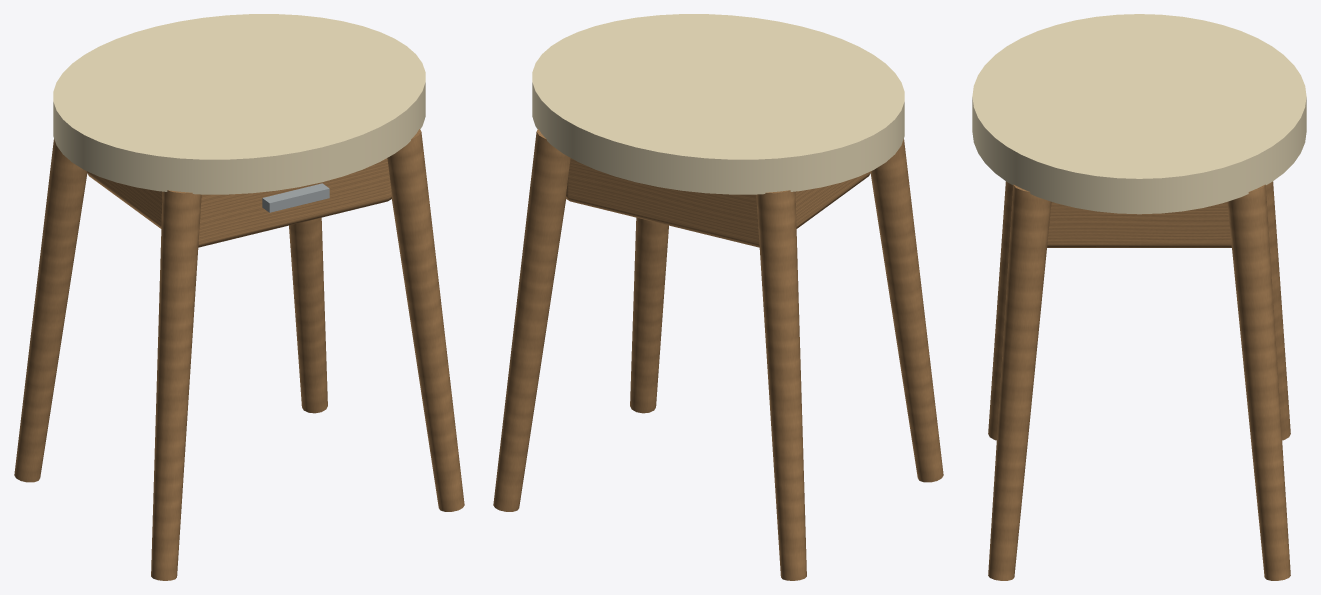
File: night_table_fjord-273028bd3e52.glb
3 renders of one model, left to right at view 1: azimuth 30°, elevation 25°; view 2: azimuth 150°, elevation 25°; view 3: azimuth 270°, elevation 25°, orthographic.
Visible parts, largest first — view 1: surface_ivory, surface_oak, surface_steel; view 2: surface_ivory, surface_oak; view 3: surface_ivory, surface_oak.
Part boxes in pixels (<box>): surface_ivory: <box>53,14,425,194</box>; surface_oak: <box>14,129,464,580</box>; surface_steel: <box>262,183,329,212</box>; surface_ivory: <box>532,14,904,194</box>; surface_oak: <box>493,129,943,580</box>; surface_ivory: <box>972,14,1306,214</box>; surface_oak: <box>988,181,1290,580</box>.
Bounding box in the file's own units: 0.4409 × 0.5118 × 0.3775.
3 materials, 1 textured.
